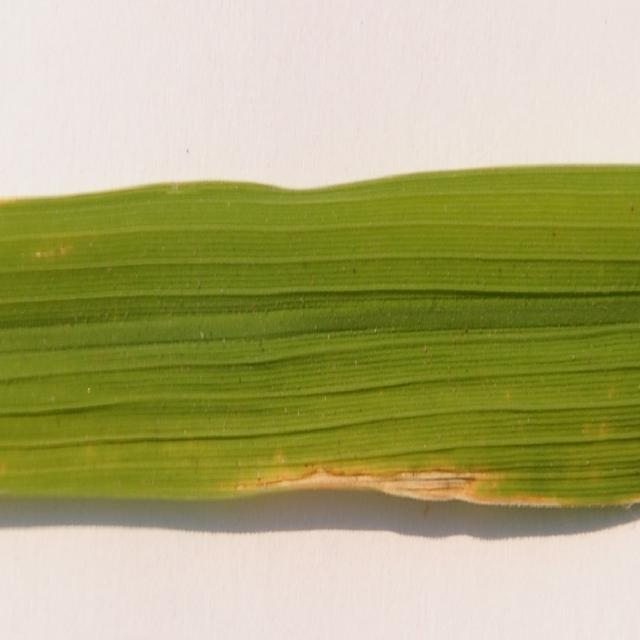leaf blight: (220, 434, 563, 514), (31, 224, 75, 268)
